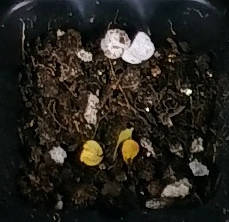pepper seed: (51, 57, 191, 222), (26, 56, 131, 222)
